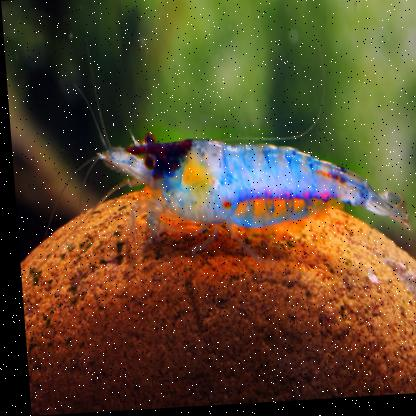shrimp: (90, 120, 410, 276)
